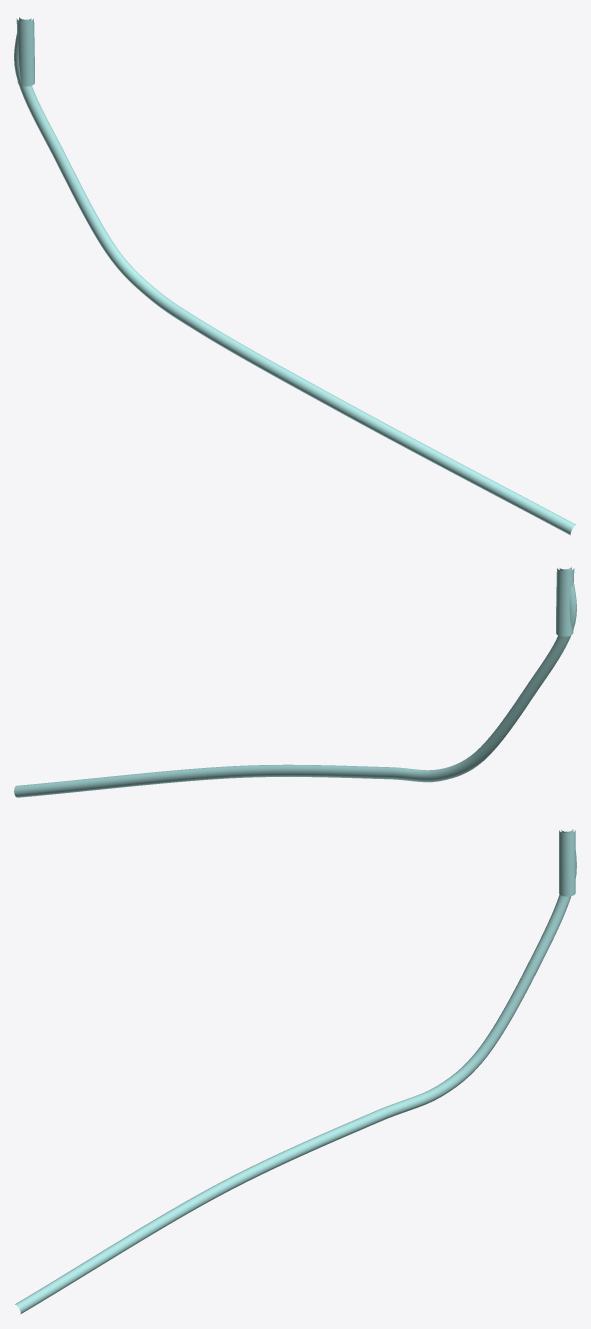
The model's file is local.glb.
The picture shows the model from 3 angles, top to bottom: view 1: azimuth 30°, elevation 25°; view 2: azimuth 210°, elevation 25°; view 3: azimuth 270°, elevation 25°; orthographic projection. The views are drawn at different scales.
Parts seen in each view (by area): view 1: rear_sensor_pale_cable; view 2: rear_sensor_pale_cable; view 3: rear_sensor_pale_cable.
Part boxes in pixels (x1,y1,x2,y2): rear_sensor_pale_cable: (14, 17, 575, 535); rear_sensor_pale_cable: (14, 567, 576, 797); rear_sensor_pale_cable: (15, 829, 576, 1314).
Size of the model in its own units: 0.1178 by 0.1525 by 0.215.
